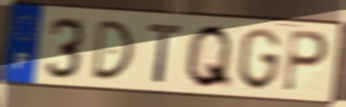3: (45, 15, 88, 81)
D: (89, 18, 136, 82)
G: (236, 26, 283, 93)
P: (281, 27, 332, 95)
Q: (182, 22, 235, 91)
T: (146, 22, 185, 85)
